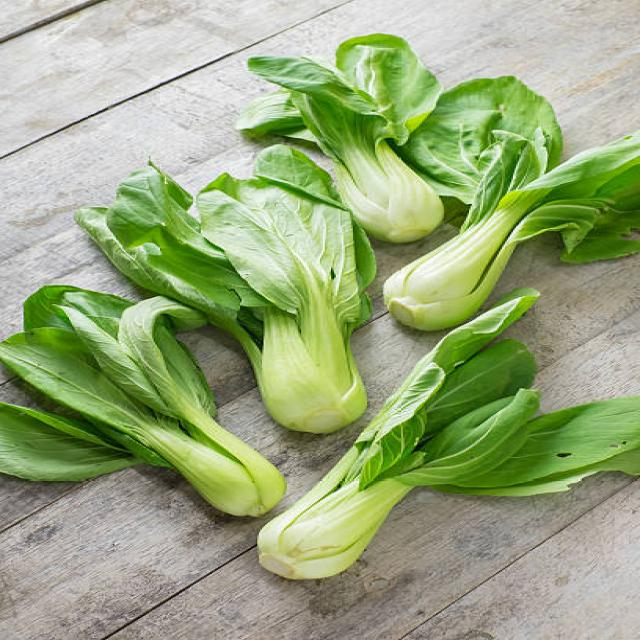Bok Choy: (361, 356, 579, 558), (0, 318, 229, 504), (233, 217, 394, 427), (306, 46, 438, 222), (459, 164, 575, 290)
